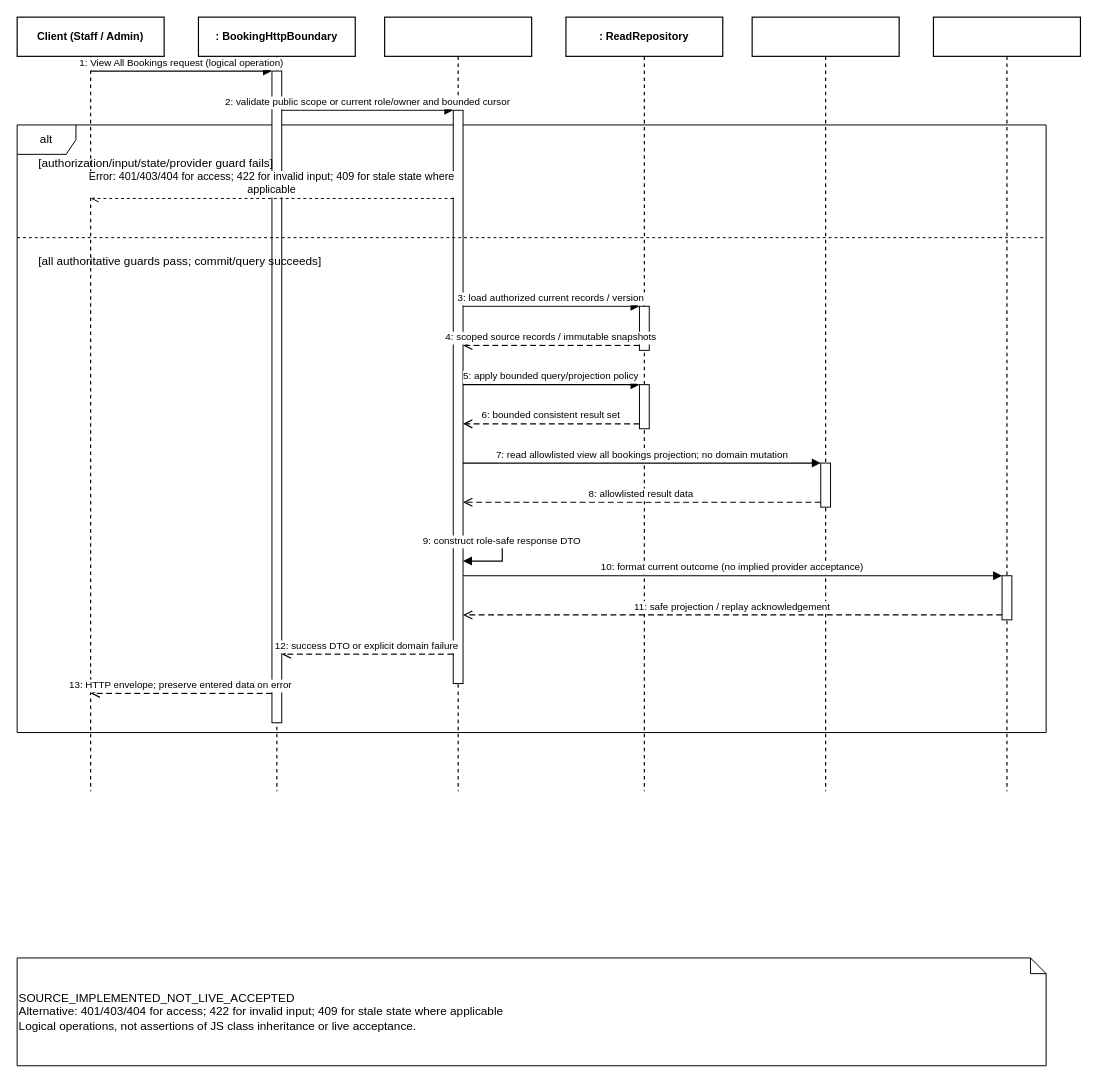
This 1099x1084 diagram has some shape labels left out. The shapes that lost their labels are listed below. From the top down, each one's box as (x1, y1, x2, y2) in pixels, then its label:
(384, 16, 532, 791): : BookingService
(751, 16, 899, 791): : QueryProjection
(932, 16, 1081, 791): : ResultProjection
